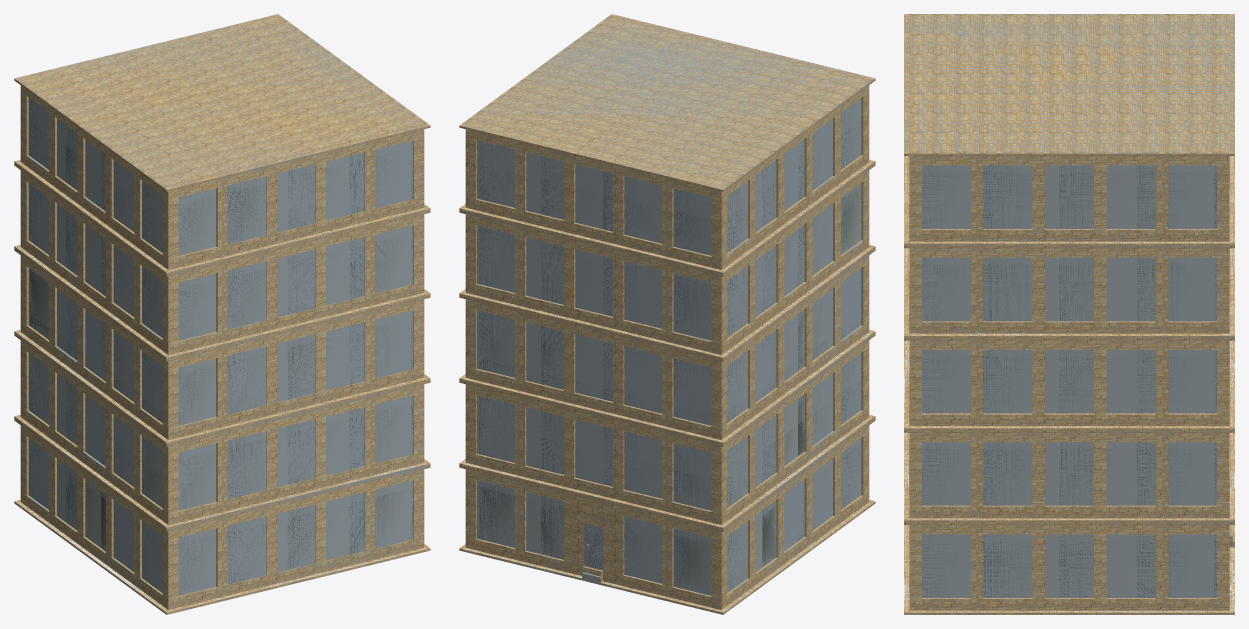
The model's file is building3.fbx.
3 renders of one model, left to right at view 1: azimuth 30°, elevation 25°; view 2: azimuth 150°, elevation 25°; view 3: azimuth 270°, elevation 25°, orthographic. The views are drawn at different scales.
Visible parts, largest first — view 1: Model; view 2: Model; view 3: Model.
Boxes of the visible parts, x1,y1,x2,y2 form: Model: (14,14,430,614); Model: (459,14,875,614); Model: (904,14,1234,614).
Size of the model in its own units: 13 by 20 by 13.
